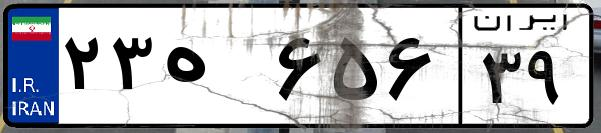2: (57, 26, 110, 100)
3: (475, 38, 525, 113), (110, 28, 158, 98)
5: (330, 28, 385, 110)
6: (270, 28, 330, 110), (385, 28, 445, 110)
9: (525, 38, 570, 115)
ه: (158, 20, 270, 120)
